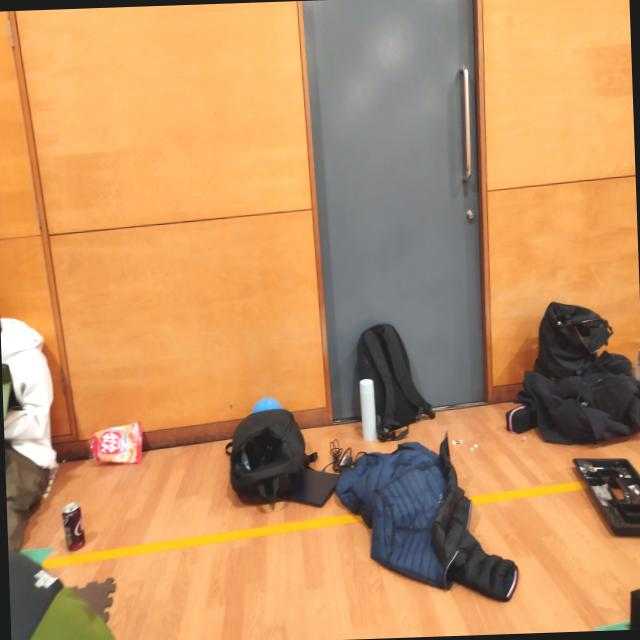blue_ball: (252, 394, 286, 418)
